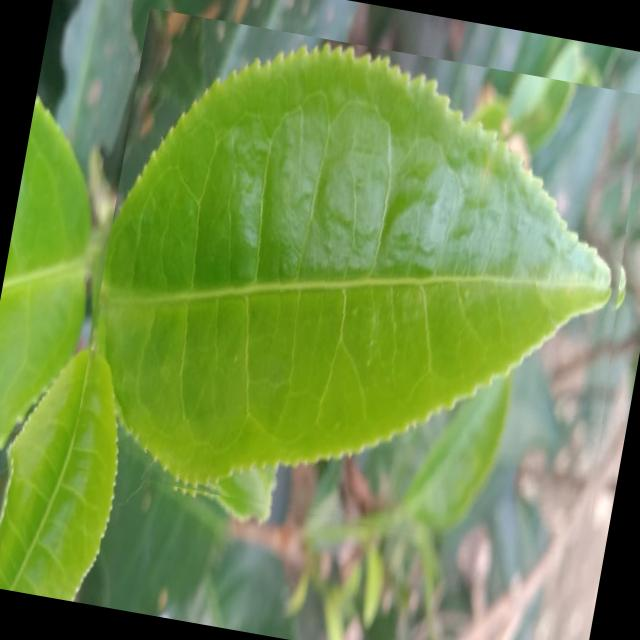Category B(2-4 days): (66, 7, 640, 567)
